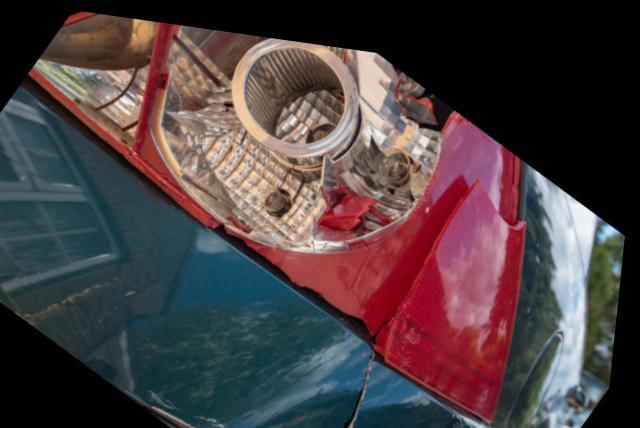crack: (342, 341, 380, 428)
lamp broken: (27, 8, 526, 408)
